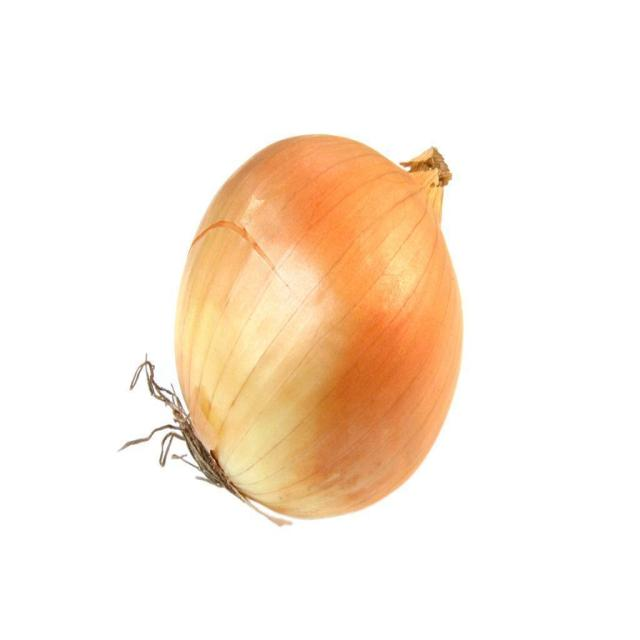Onion: (121, 132, 463, 522)
